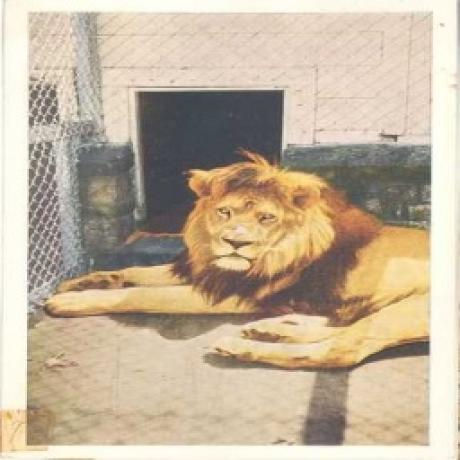Lion: (43, 153, 431, 374)
